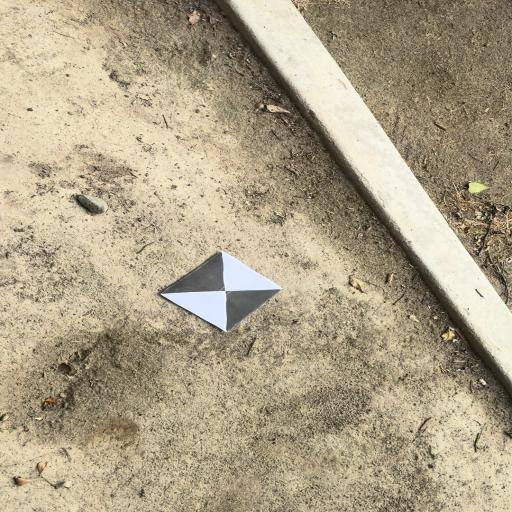target: (163, 252, 283, 333)
